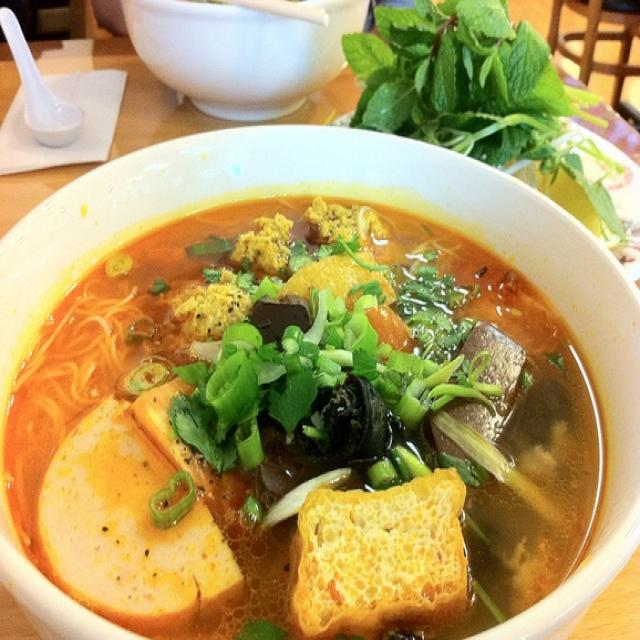面条主食: (11, 133, 626, 627)
